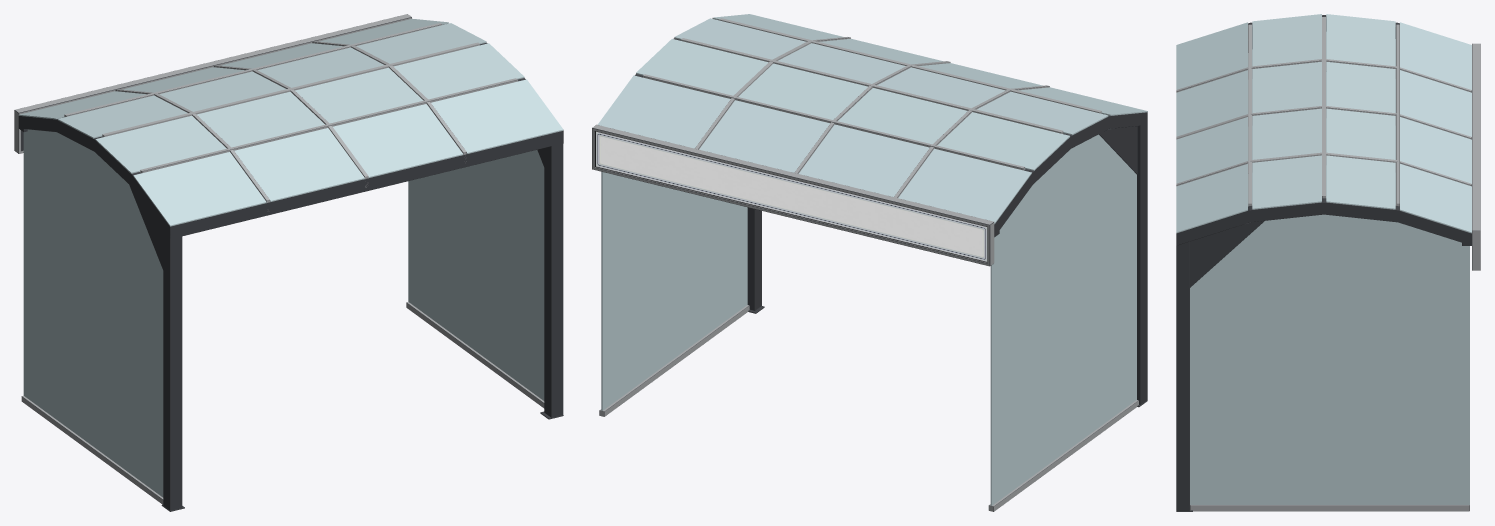
File: gteki_street_canopy_w4500_d3000_cantilever_curved.glb
The picture shows the model from 3 angles, left to right: view 1: azimuth 30°, elevation 25°; view 2: azimuth 150°, elevation 25°; view 3: azimuth 270°, elevation 25°; orthographic projection. The views are drawn at different scales.
Visible parts, largest first — view 1: VIS_glass, VIS_posts, VIS_ribs, VIS_frame, VIS_fascia; view 2: VIS_glass, VIS_faces, VIS_ribs, VIS_posts, VIS_fascia, VIS_frame; view 3: VIS_glass, VIS_ribs, VIS_posts, VIS_frame, VIS_fascia.
Boxes of the visible parts, <box> form: VIS_glass: <box>18,18,563,497</box>; VIS_posts: <box>129,139,563,511</box>; VIS_ribs: <box>21,23,544,504</box>; VIS_frame: <box>18,24,563,238</box>; VIS_fascia: <box>14,14,411,153</box>; VIS_glass: <box>597,14,1147,505</box>; VIS_faces: <box>596,131,987,261</box>; VIS_ribs: <box>599,18,1138,511</box>; VIS_posts: <box>747,124,1147,407</box>; VIS_fascia: <box>592,124,994,266</box>; VIS_frame: <box>635,18,1147,237</box>; VIS_glass: <box>1176,14,1471,504</box>; VIS_ribs: <box>1176,17,1471,511</box>; VIS_posts: <box>1176,39,1264,511</box>; VIS_frame: <box>1176,15,1471,245</box>; VIS_fascia: <box>1472,43,1480,270</box>.
Size of what is drawn, in the model's own units: 4.5 by 3.49 by 3.09.
Materials: 5 (1 with a texture image).
